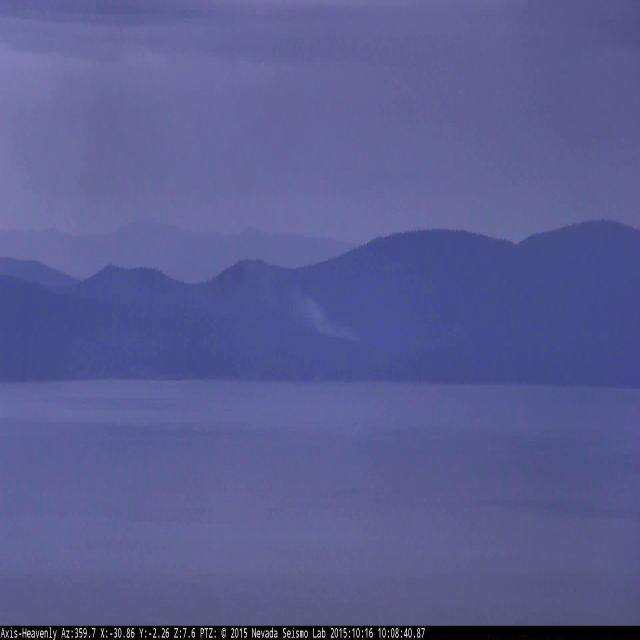smoke: (294, 286, 368, 348)
